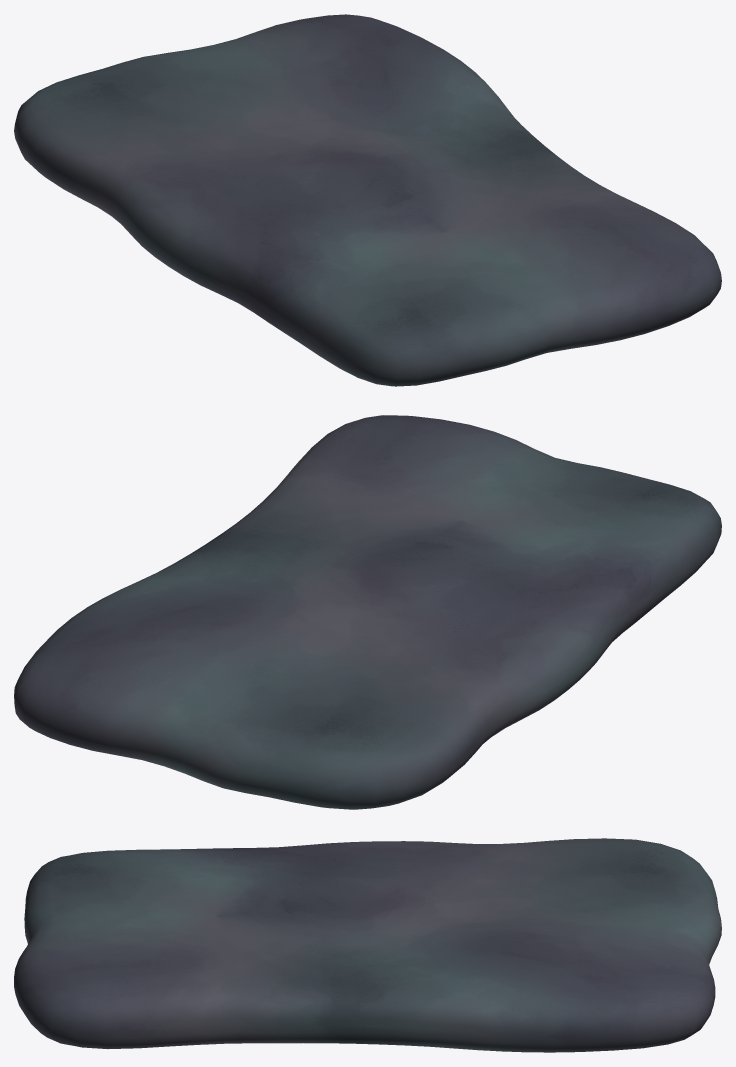
File: RockFlat.fbx
3 views of the same model, one above another, from view 1: azimuth 30°, elevation 25°; view 2: azimuth 150°, elevation 25°; view 3: azimuth 270°, elevation 25° (orthographic). The views are drawn at different scales.
Visible parts, largest first — view 1: RockFlat; view 2: RockFlat; view 3: RockFlat.
Part boxes in pixels (<box>): RockFlat: <box>14,14,721,386</box>; RockFlat: <box>14,415,721,809</box>; RockFlat: <box>14,838,721,1052</box>.
Bounding box in the file's own units: 240 × 41.16 × 394.
1 material, 1 textured.
